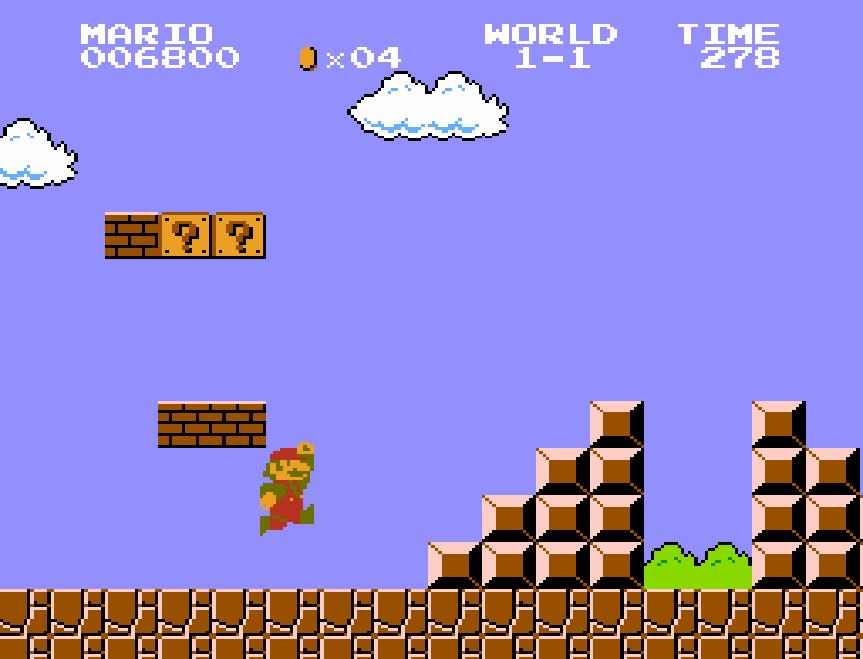big_mario: (257, 440, 315, 538)
